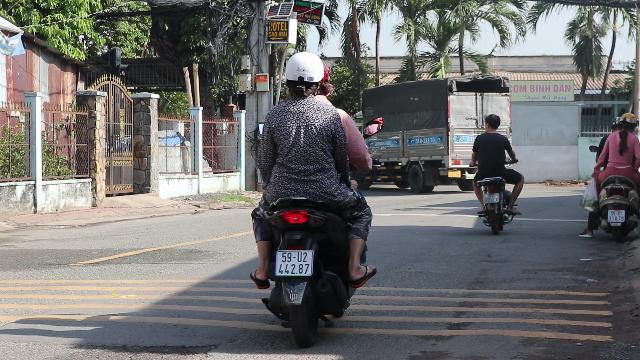helmet: (281, 50, 327, 98), (616, 112, 638, 132)
licenseplate: (276, 250, 312, 276), (608, 210, 624, 222), (484, 194, 500, 202)
motorcyclist: (242, 51, 378, 346), (580, 111, 640, 241), (468, 112, 524, 232)
nohelmet: (483, 113, 501, 131)
